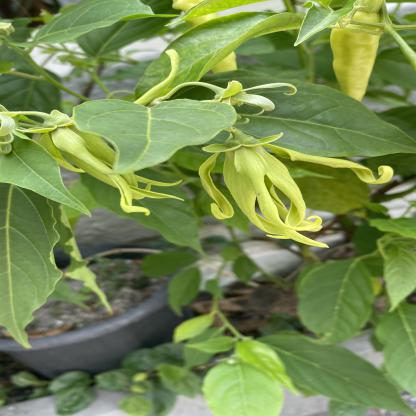Kenanga: (25, 114, 146, 204), (209, 128, 313, 227)
